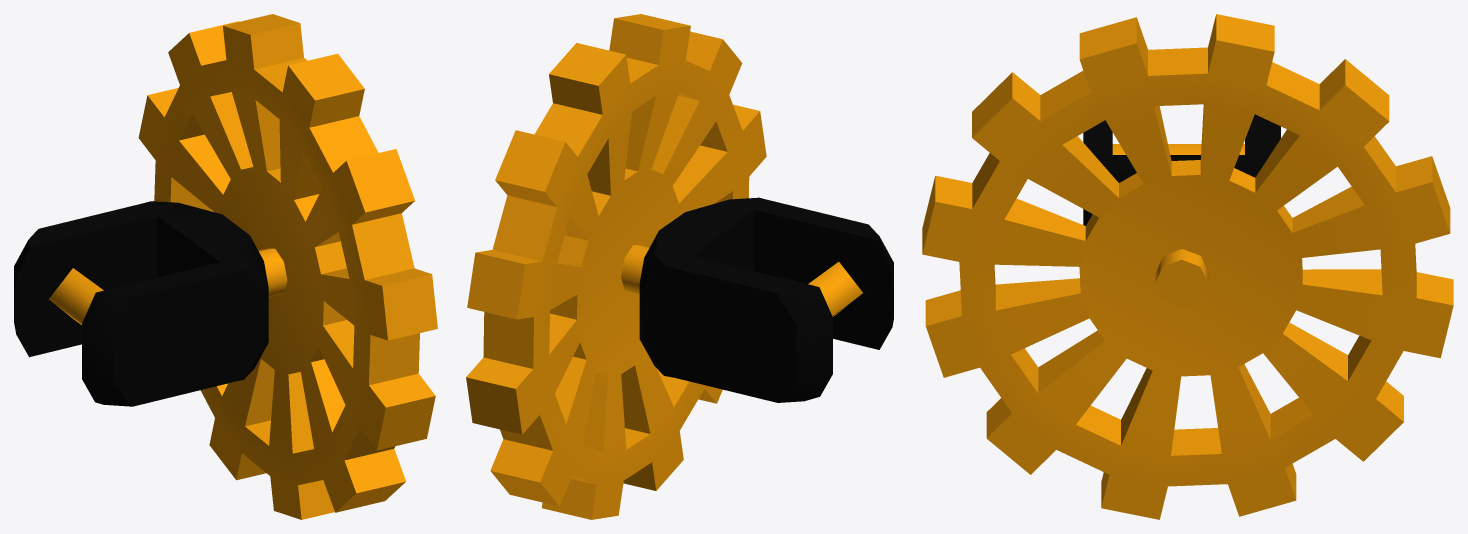
Rendered from Wheel03.fbx.
The picture shows the model from 3 angles, left to right: view 1: azimuth 30°, elevation 25°; view 2: azimuth 150°, elevation 25°; view 3: azimuth 270°, elevation 25°; orthographic projection. The views are drawn at different scales.
Visible parts, largest first — view 1: Wheel03; view 2: Wheel03; view 3: Wheel03.
Boxes of the visible parts, x1,y1,x2,y2 form: Wheel03: (14,14,437,519); Wheel03: (466,14,893,519); Wheel03: (922,14,1453,519).
Bounding box in the file's own units: 1.1 × 1.71 × 1.71.
